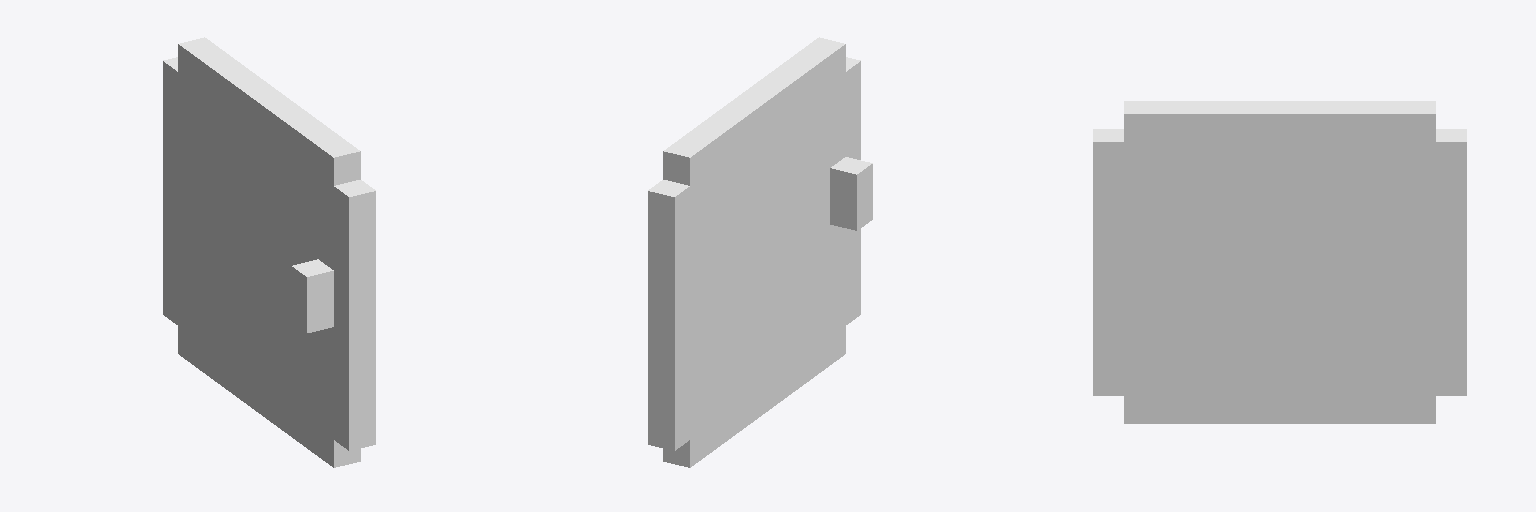
The model's file is elec_doors-1.obj.
3 renders of one model, left to right at view 1: azimuth 30°, elevation 25°; view 2: azimuth 150°, elevation 25°; view 3: azimuth 270°, elevation 25°, orthographic.
Visible parts, largest first — view 1: object 1; view 2: object 1; view 3: object 1.
Boxes of the visible parts, x1=… form: object 1: x1=163, y1=37, x2=375, y2=467; object 1: x1=648, y1=37, x2=872, y2=467; object 1: x1=1093, y1=101, x2=1466, y2=423.
Bounding box in the file's own units: 0.2 × 1.1 × 1.2.